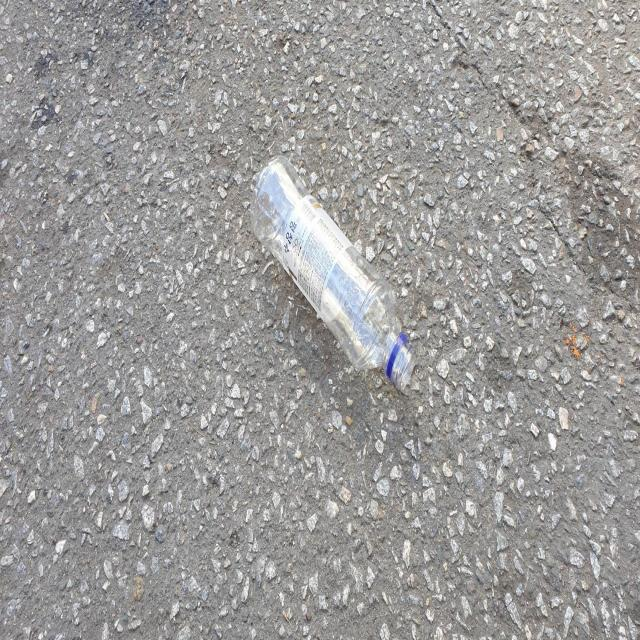plastic: (250, 155, 416, 391)
